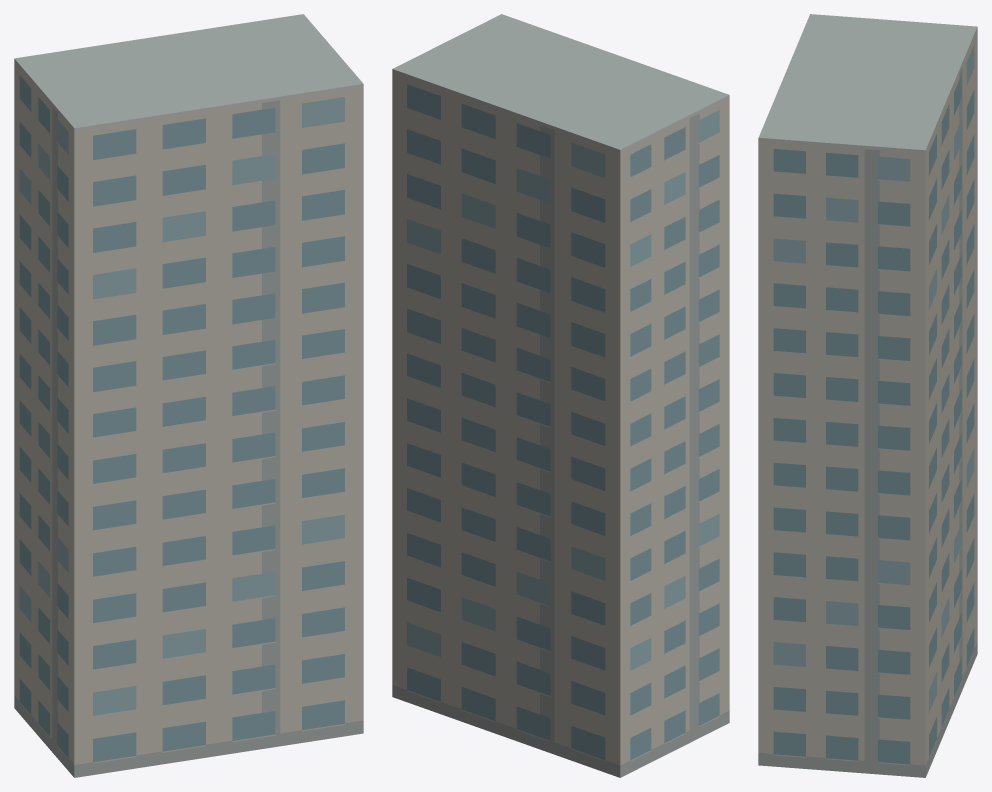
File: residential-1d5b9010-97f1-49f2-8e12-7b26d148b62d.glb
3 views of the same model, side by side, from view 1: azimuth 30°, elevation 25°; view 2: azimuth 150°, elevation 25°; view 3: azimuth 270°, elevation 25° (orthographic). The views are drawn at different scales.
Visible parts, largest first — view 1: residential-1d5b9010-97f1-49f2-8e12-7b26d148b62d.tmp; view 2: residential-1d5b9010-97f1-49f2-8e12-7b26d148b62d.tmp; view 3: residential-1d5b9010-97f1-49f2-8e12-7b26d148b62d.tmp.
Boxes of the visible parts, bbox=[...] form: residential-1d5b9010-97f1-49f2-8e12-7b26d148b62d.tmp: bbox=[14, 14, 363, 777]; residential-1d5b9010-97f1-49f2-8e12-7b26d148b62d.tmp: bbox=[392, 14, 729, 777]; residential-1d5b9010-97f1-49f2-8e12-7b26d148b62d.tmp: bbox=[758, 14, 977, 777].
Bounding box in the file's own units: 20.5 × 44 × 13.93.
